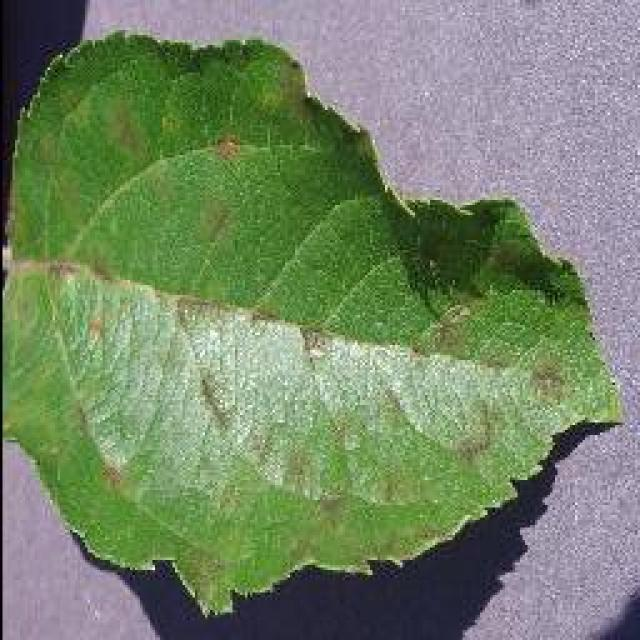apple scab disease: (0, 28, 625, 618)
